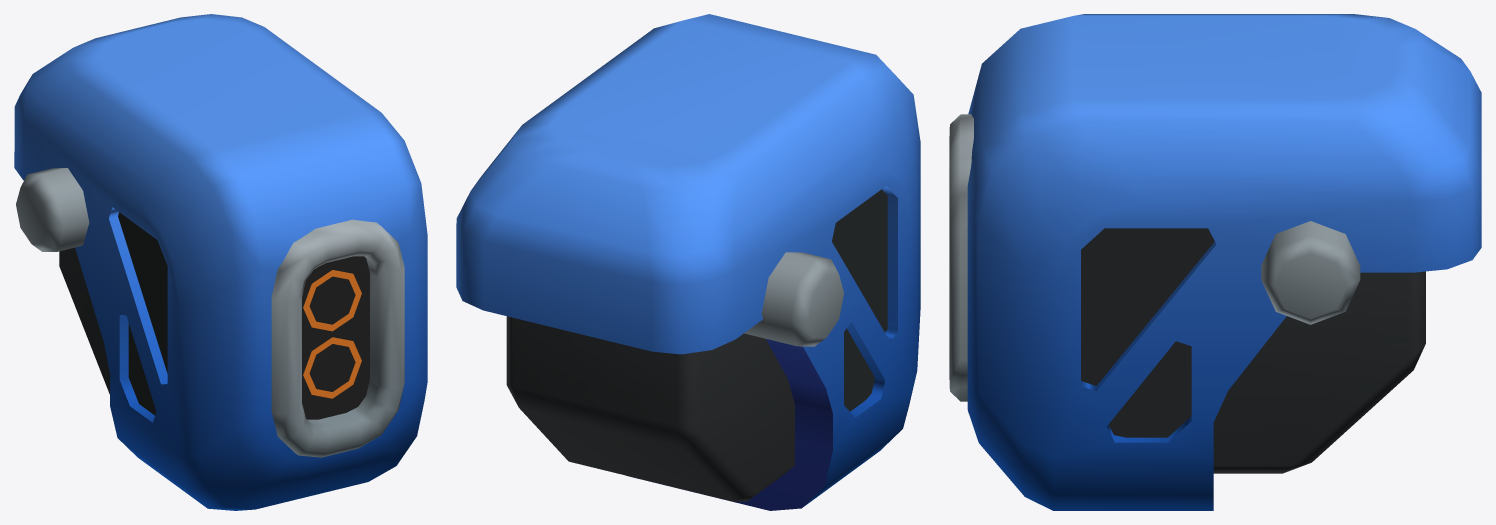
Rendered from drone_3_001.fbx.
3 views of the same model, side by side, from view 1: azimuth 30°, elevation 25°; view 2: azimuth 150°, elevation 25°; view 3: azimuth 270°, elevation 25° (orthographic). The views are drawn at different scales.
Visible parts, largest first — view 1: drone_3_001; view 2: drone_3_001; view 3: drone_3_001.
Part boxes in pixels (bbox=[...]): drone_3_001: bbox=[14, 14, 427, 510]; drone_3_001: bbox=[456, 14, 920, 510]; drone_3_001: bbox=[949, 14, 1481, 510].
Size of the model in its own units: 156 by 200 by 171.
